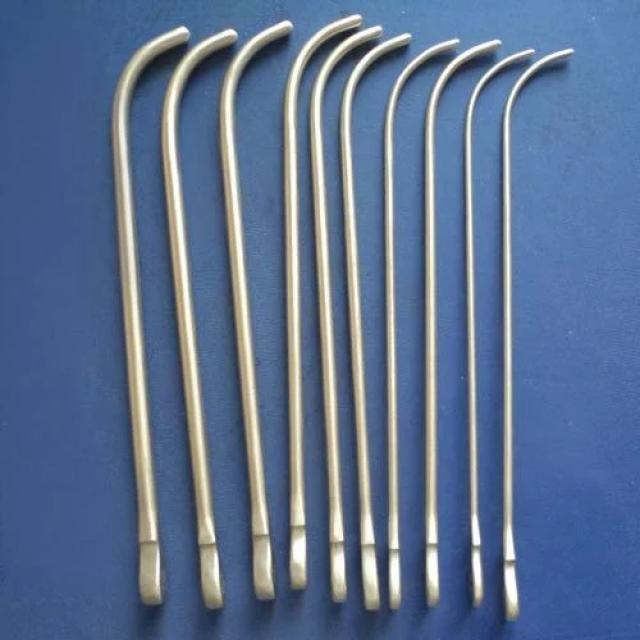Urethral Dilators: (204, 16, 314, 626), (324, 24, 434, 628), (274, 9, 376, 632), (412, 18, 514, 620), (164, 20, 258, 632), (379, 6, 467, 614), (100, 21, 188, 622), (493, 50, 578, 620), (463, 25, 527, 640)
